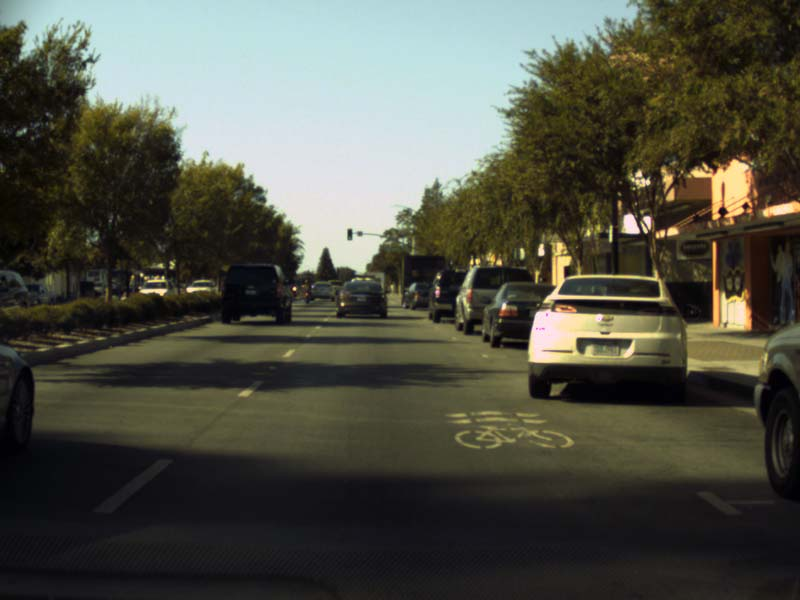Green: (346, 228, 352, 240)
